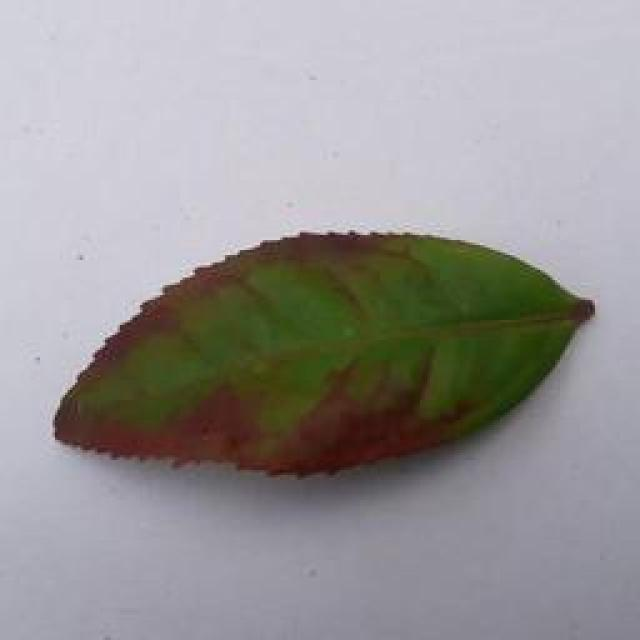Red Leaf Spot: (45, 212, 640, 488)
